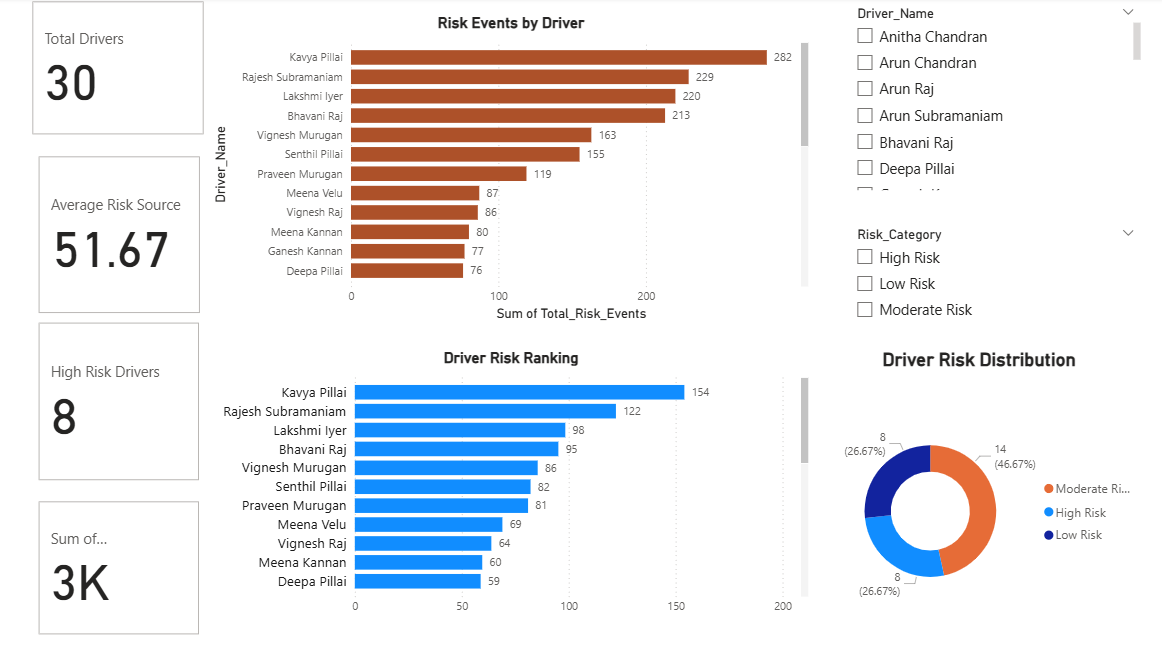

Layout of this report page (visuals, bound fields, positions):
{"tool":"powerbi","page":{"name":"Driver Dashboard 1","canvas":[1280,720],"ordinal":0},"visuals":[{"type":"cardVisual","fields":{"Data":["Count(driver_risk_scores.Driver_ID)"]},"box":[32.9,0,199,156.4],"z":0},{"type":"cardVisual","fields":{"Data":["Avg(driver_risk_scores.Driver_Risk_Score)"]},"box":[39.8,170.2,188,182.5],"z":1000},{"type":"cardVisual","fields":{"Data":["Count(driver_risk_scores.Driver_ID)"]},"box":[39.8,352.7,186.6,183.9],"z":2000},{"type":"cardVisual","fields":{"Data":["Sum(driver_risk_scores.Total_Risk_Events)"]},"box":[39.8,548.9,186.6,156.4],"z":3000},{"type":"donutChart","title":"Driver Risk Distribution","fields":{"Category":["driver_risk_scores.Risk_Category"],"Y":["CountNonNull(driver_risk_scores.Driver_ID)"]},"box":[894.7,385.6,365,334.8],"z":4000},{"type":"clusteredBarChart","title":"Risk Events by Driver","fields":{"Category":["driver_risk_scores.Driver_Name"],"Y":["Sum(driver_risk_scores.Total_Risk_Events)"]},"box":[231.9,17.8,662.8,343.1],"z":5000},{"type":"slicer","fields":{"Values":["driver_risk_scores.Driver_Name"]},"box":[930.4,4.1,329.3,212.7],"z":6000},{"type":"slicer","fields":{"Values":["driver_risk_scores.Risk_Category"]},"box":[930.4,247,329.3,138.6],"z":7000},{"type":"clusteredBarChart","title":"Driver Risk Ranking","fields":{"Category":["driver_risk_scores.Driver_Name"],"Y":["Sum(driver_risk_scores.Driver_Risk_Score)"]},"box":[231.9,385.6,662.8,301.9],"z":8000}]}

Visuals, with their boxes in screenshot pixels (x1, y1, x2, y2), scaled from the page's 1280x720 canvas onto the 1162x647 screenshot:
cardVisual - Count(driver_risk_scores.Driver_ID): (30, 0, 211, 141)
cardVisual - Avg(driver_risk_scores.Driver_Risk_Score): (36, 153, 207, 317)
cardVisual - Count(driver_risk_scores.Driver_ID): (36, 317, 206, 482)
cardVisual - Sum(driver_risk_scores.Total_Risk_Events): (36, 493, 206, 634)
"Driver Risk Distribution" donutChart: (812, 347, 1144, 646)
"Risk Events by Driver" clusteredBarChart: (211, 16, 812, 324)
slicer - driver_risk_scores.Driver_Name: (845, 4, 1144, 195)
slicer - driver_risk_scores.Risk_Category: (845, 222, 1144, 347)
"Driver Risk Ranking" clusteredBarChart: (211, 347, 812, 618)
